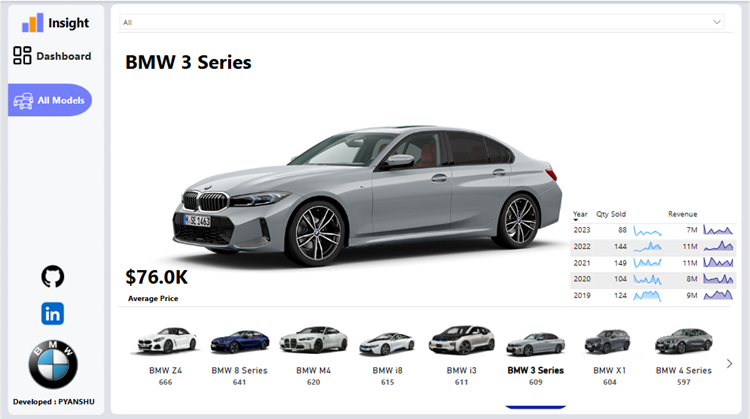

Layout of this report page (visuals, bound fields, positions):
{"tool":"powerbi","page":{"name":"All Model","canvas":[1280,720],"ordinal":1},"visuals":[{"type":"slicer","fields":{"Values":["dimModel.Model"]},"box":[192.8,11.3,1057.3,73.7],"z":0},{"type":"advancedSlicerVisual","fields":{"Values":["dimModel.Model"]},"box":[194.2,537.2,1070.1,167.2],"z":1000},{"type":"advancedSlicerVisual","fields":{"Values":["dimModel.Model"]},"box":[194.2,59.5,867.4,462],"z":2000},{"type":"shape","box":[211.2,69.4,494.6,63.8],"z":3000},{"type":"shape","box":[211.2,438,494.6,63.8],"z":4000},{"type":"textbox","box":[211.2,494.6,134.6,42.5],"z":5000},{"type":"tableEx","fields":{"Values":["Calendar.Year","New Measure.Qty Sold","New Measure.Qty Sold Sparkline","New Measure.Revenue","New Measure.Revenue Sparkline"]},"box":[969.4,348.7,300.5,177.2],"z":6000},{"type":"textbox","box":[56.7,153.1,154.5,42.5],"z":7000},{"type":"image","box":[12.8,150.2,49.6,42.5],"z":8000},{"type":"textbox","box":[53.9,76.5,154.5,42.5],"z":9000},{"type":"image","box":[8.5,69.4,53.9,46.8],"z":10000},{"type":"actionButton","box":[8.5,73.7,168.7,39.7],"z":11000},{"type":"textbox","box":[75.1,17,154.5,42.5],"z":12000},{"type":"image","box":[28.3,9.9,49.6,49.6],"z":13000},{"type":"image","box":[39.7,572.6,96.4,97.8],"z":14000},{"type":"image","box":[49,504.5,77.4,60.6],"z":15000},{"type":"image","box":[63.2,438.7,49,65.8],"z":16000},{"type":"textbox","box":[14.2,671,193.5,42.6],"z":17000}]}

Visuals, with their boxes on the page's 1280x720 design canvas (x1, y1, x2, y2). These are canvas units, not pixel positions in the 750x419 screenshot, which may show the page scaled, cropped or inside an application window:
slicer - dimModel.Model: <region>193, 11, 1250, 85</region>
advancedSlicerVisual - dimModel.Model: <region>194, 537, 1264, 704</region>
advancedSlicerVisual - dimModel.Model: <region>194, 60, 1062, 522</region>
shape: <region>211, 69, 706, 133</region>
shape: <region>211, 438, 706, 502</region>
textbox: <region>211, 495, 346, 537</region>
tableEx - Calendar.Year x New Measure.Qty Sold: <region>969, 349, 1270, 526</region>
textbox: <region>57, 153, 211, 196</region>
image: <region>13, 150, 62, 193</region>
textbox: <region>54, 76, 208, 119</region>
image: <region>8, 69, 62, 116</region>
actionButton: <region>8, 74, 177, 113</region>
textbox: <region>75, 17, 230, 60</region>
image: <region>28, 10, 78, 60</region>
image: <region>40, 573, 136, 670</region>
image: <region>49, 504, 126, 565</region>
image: <region>63, 439, 112, 504</region>
textbox: <region>14, 671, 208, 714</region>
